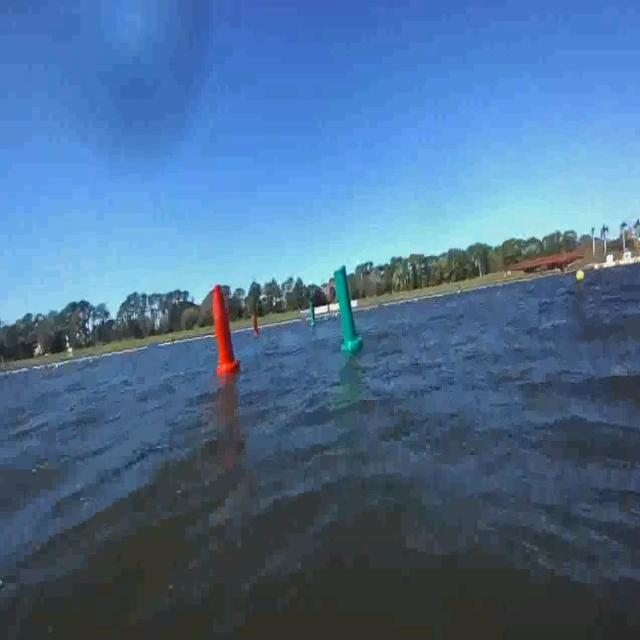green-column-buoy: (333, 265, 365, 353), (308, 295, 316, 325)
red-column-buoy: (210, 286, 240, 377), (251, 314, 260, 338)
yellow-buoy: (575, 269, 584, 284)
